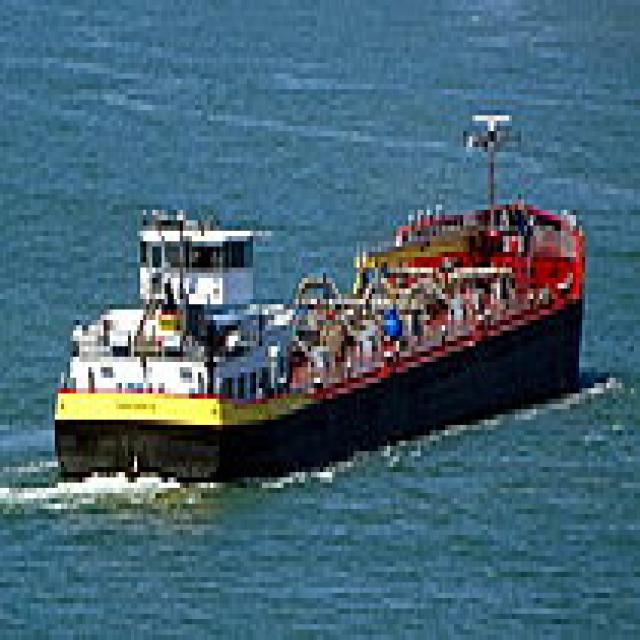Tanker: (52, 105, 582, 477)
